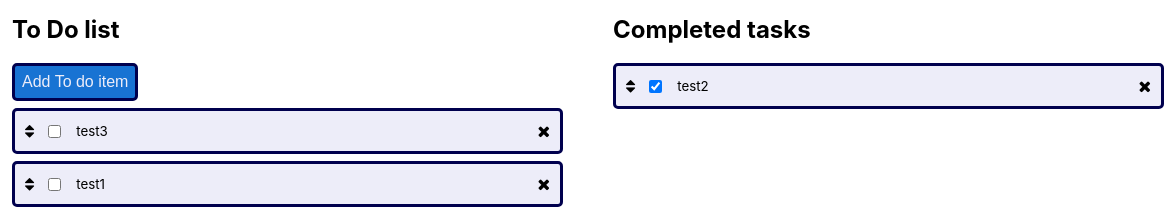
Test case: TodoList › changes todo item text when typed into
This screenshot has width=1164, height=224.
Type " extended text" into the text box with test id "-3-textarea" at (301, 184), box [74,174,528,194]
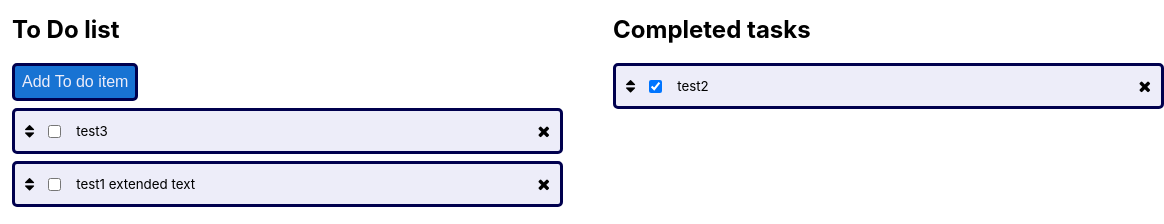
Expected: the 3rd text box "test1 extended text" is shown, [74,174,528,194]
